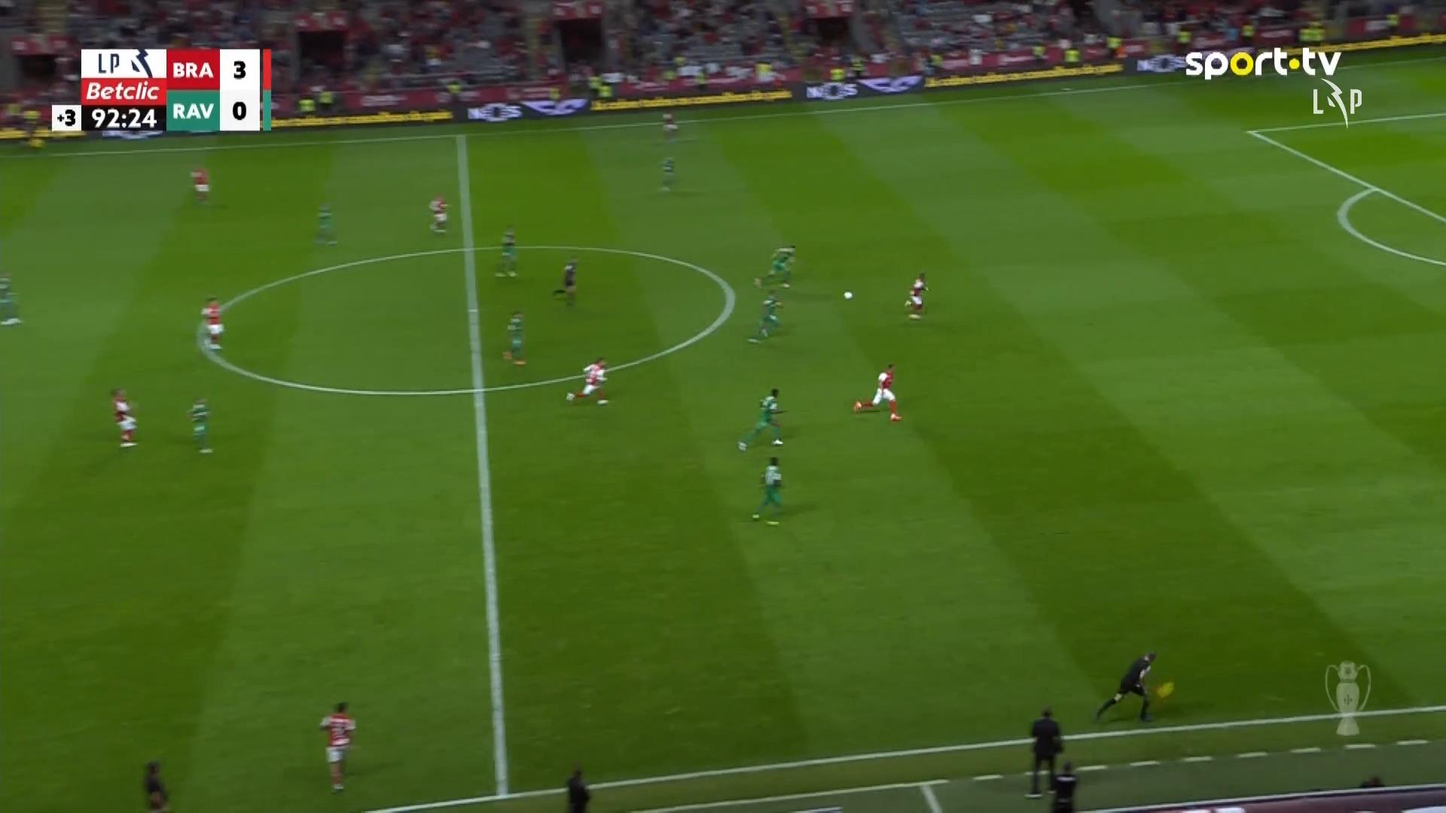ball: (843, 291, 852, 299)
player: (319, 701, 355, 793), (736, 386, 786, 451), (852, 362, 901, 422), (750, 455, 784, 521), (565, 357, 609, 405), (752, 242, 796, 289), (747, 289, 783, 343), (110, 388, 139, 447), (188, 397, 213, 454), (502, 310, 526, 366), (200, 297, 224, 349), (494, 224, 517, 278), (904, 272, 929, 319), (313, 202, 337, 245), (428, 193, 448, 233), (189, 166, 210, 202), (658, 154, 676, 191), (660, 111, 678, 139)
referee: (1094, 650, 1174, 723), (1024, 705, 1064, 797), (1049, 760, 1078, 811), (142, 760, 169, 810), (553, 256, 578, 305), (566, 766, 591, 811)
